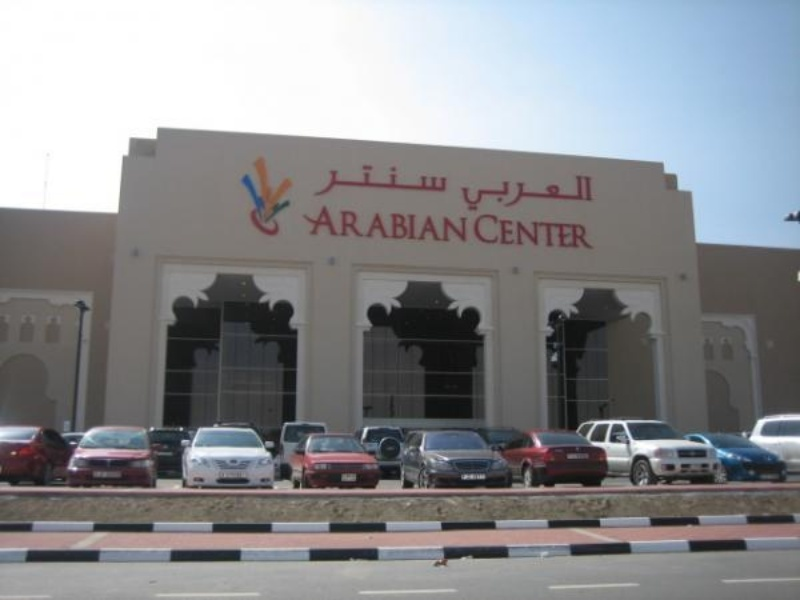text: (305, 203, 320, 245), (321, 203, 336, 245), (337, 203, 352, 245), (353, 203, 368, 245), (369, 203, 384, 245), (385, 203, 400, 245), (401, 203, 416, 245), (417, 203, 432, 245), (433, 203, 448, 245), (449, 203, 464, 245), (465, 173, 480, 213), (481, 173, 496, 213), (497, 173, 512, 213), (513, 173, 528, 213), (529, 173, 544, 213), (545, 173, 560, 213), (561, 173, 576, 213), (577, 173, 592, 213), (321, 161, 336, 199), (337, 161, 352, 199), (353, 161, 368, 199), (369, 161, 384, 199), (385, 161, 400, 199), (401, 161, 416, 199), (417, 161, 432, 199), (481, 213, 496, 250), (497, 213, 512, 250), (513, 213, 528, 250), (529, 213, 544, 250), (545, 213, 560, 250), (561, 213, 576, 250), (577, 213, 592, 250), (433, 161, 447, 199), (473, 213, 480, 250), (465, 203, 470, 245), (460, 173, 464, 213), (593, 213, 595, 250), (303, 203, 304, 245), (593, 173, 594, 213)
